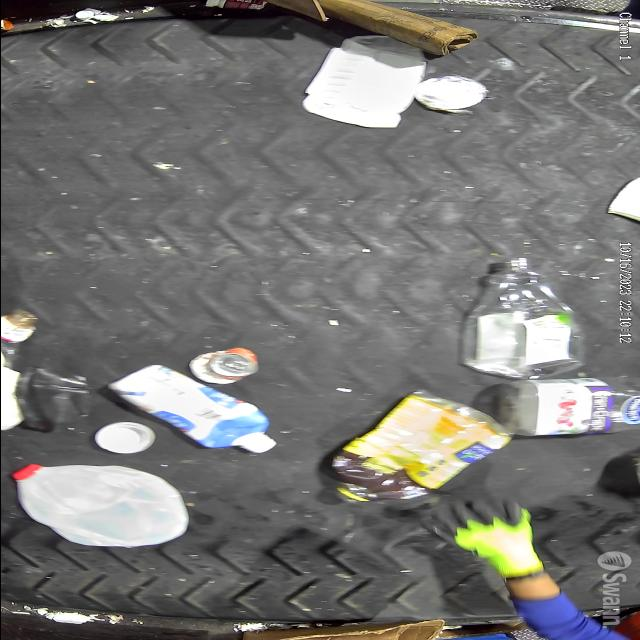can: (412, 74, 488, 114), (188, 348, 266, 385)
milk_jug: (9, 460, 189, 548)
plastic_bottle: (464, 255, 582, 378), (495, 378, 636, 438)
